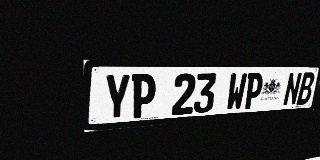2: (172, 73, 196, 115)
3: (193, 73, 217, 114)
B: (296, 72, 316, 105)
N: (282, 72, 302, 106)
P: (130, 74, 157, 119), (243, 73, 264, 109)
W: (225, 73, 248, 111)
Y: (103, 74, 131, 121)
